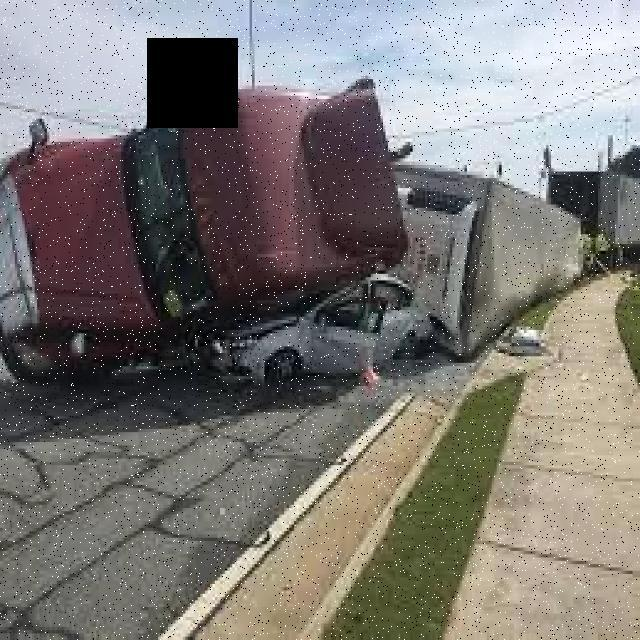severe: (2, 72, 590, 396)
